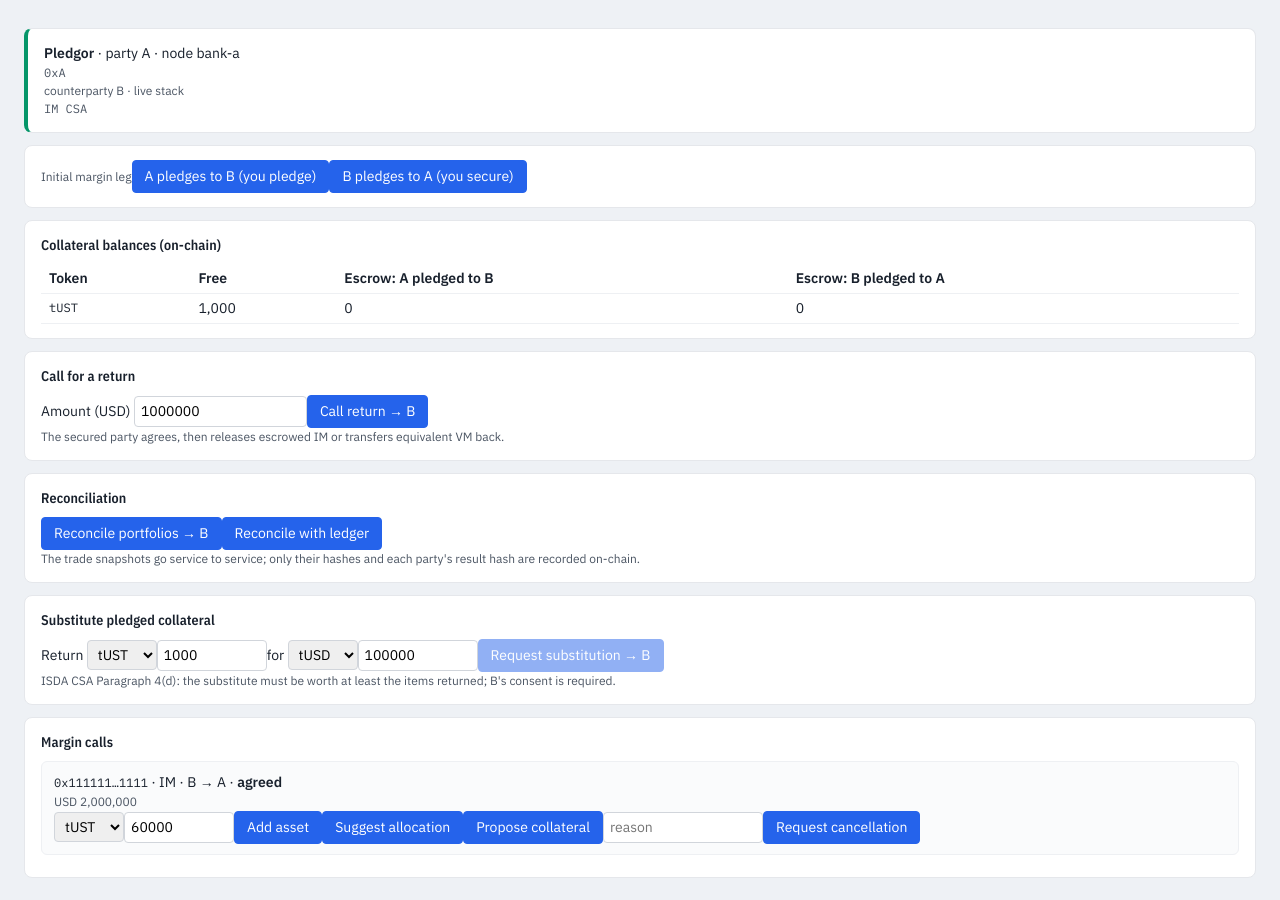
flow-allocation › says so when the holdings do not cover the agreed amount, and leaves the basket empty
Click the button "Suggest allocation". click: coordinates (393, 828)
box: [322, 811, 463, 844]
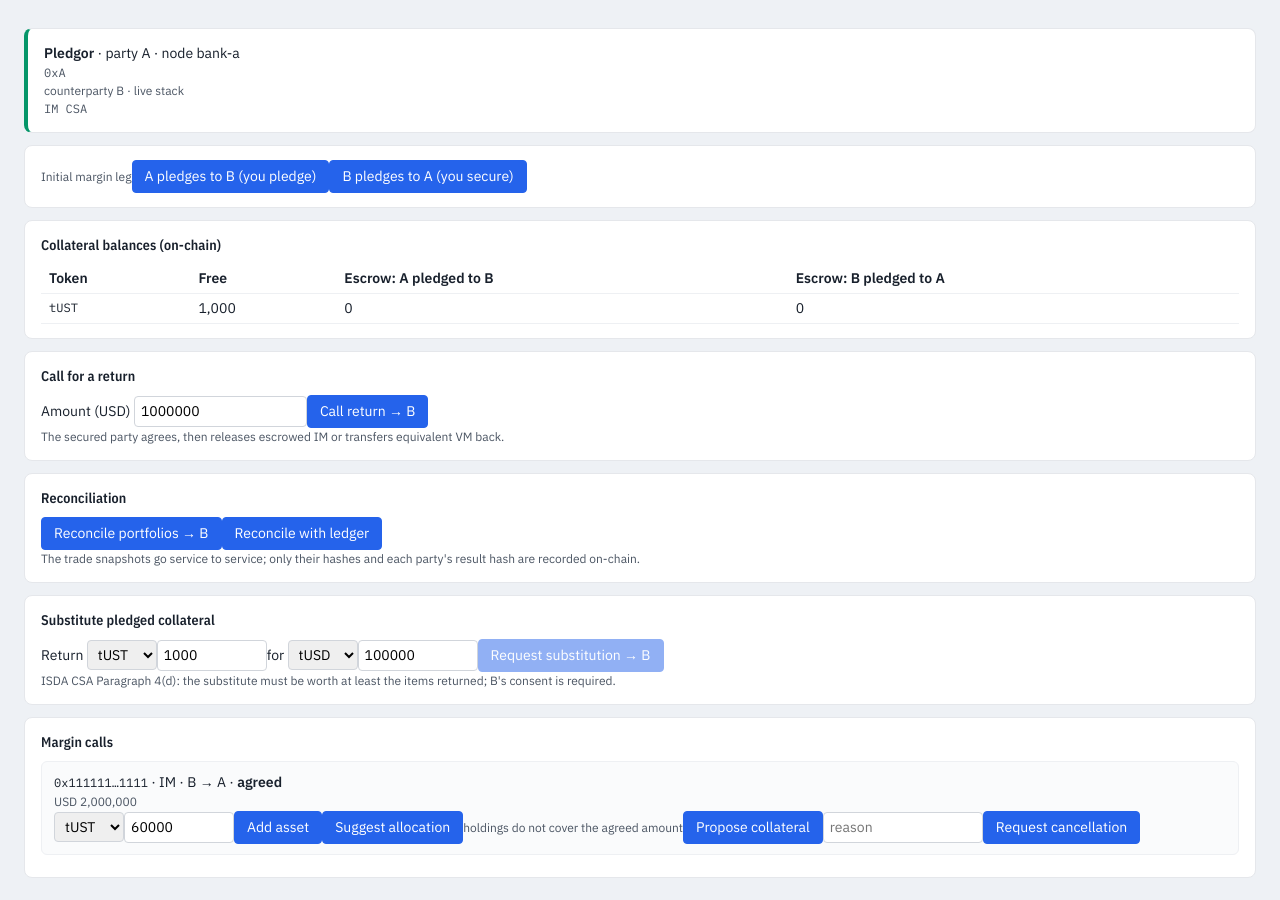
Now the text "holdings do not cover the agreed amount" is shown, box [463, 820, 683, 835]
